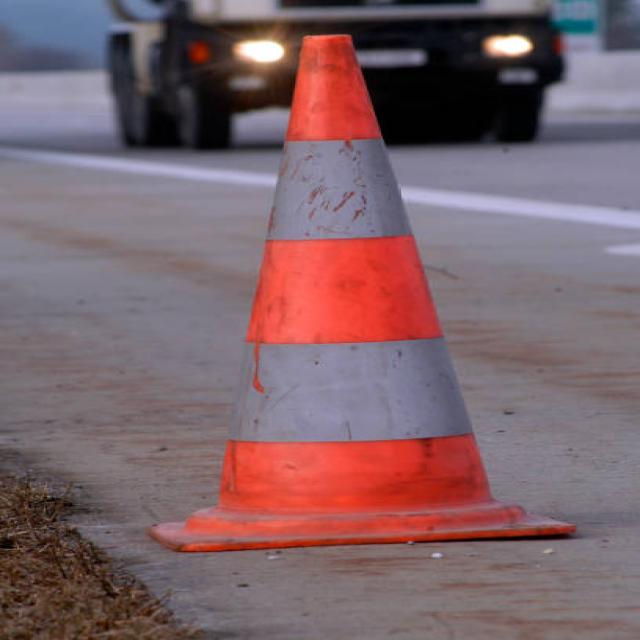Traffic Cone: (97, 12, 604, 580)
